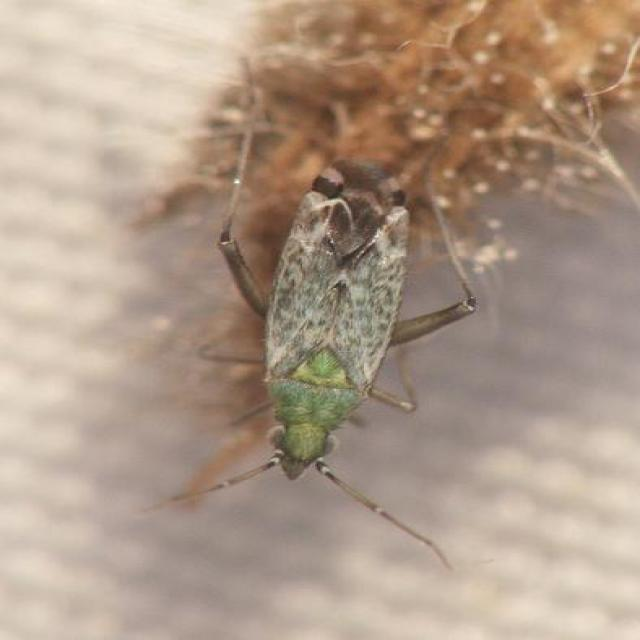Miridae-Adult-: (170, 45, 476, 558)
